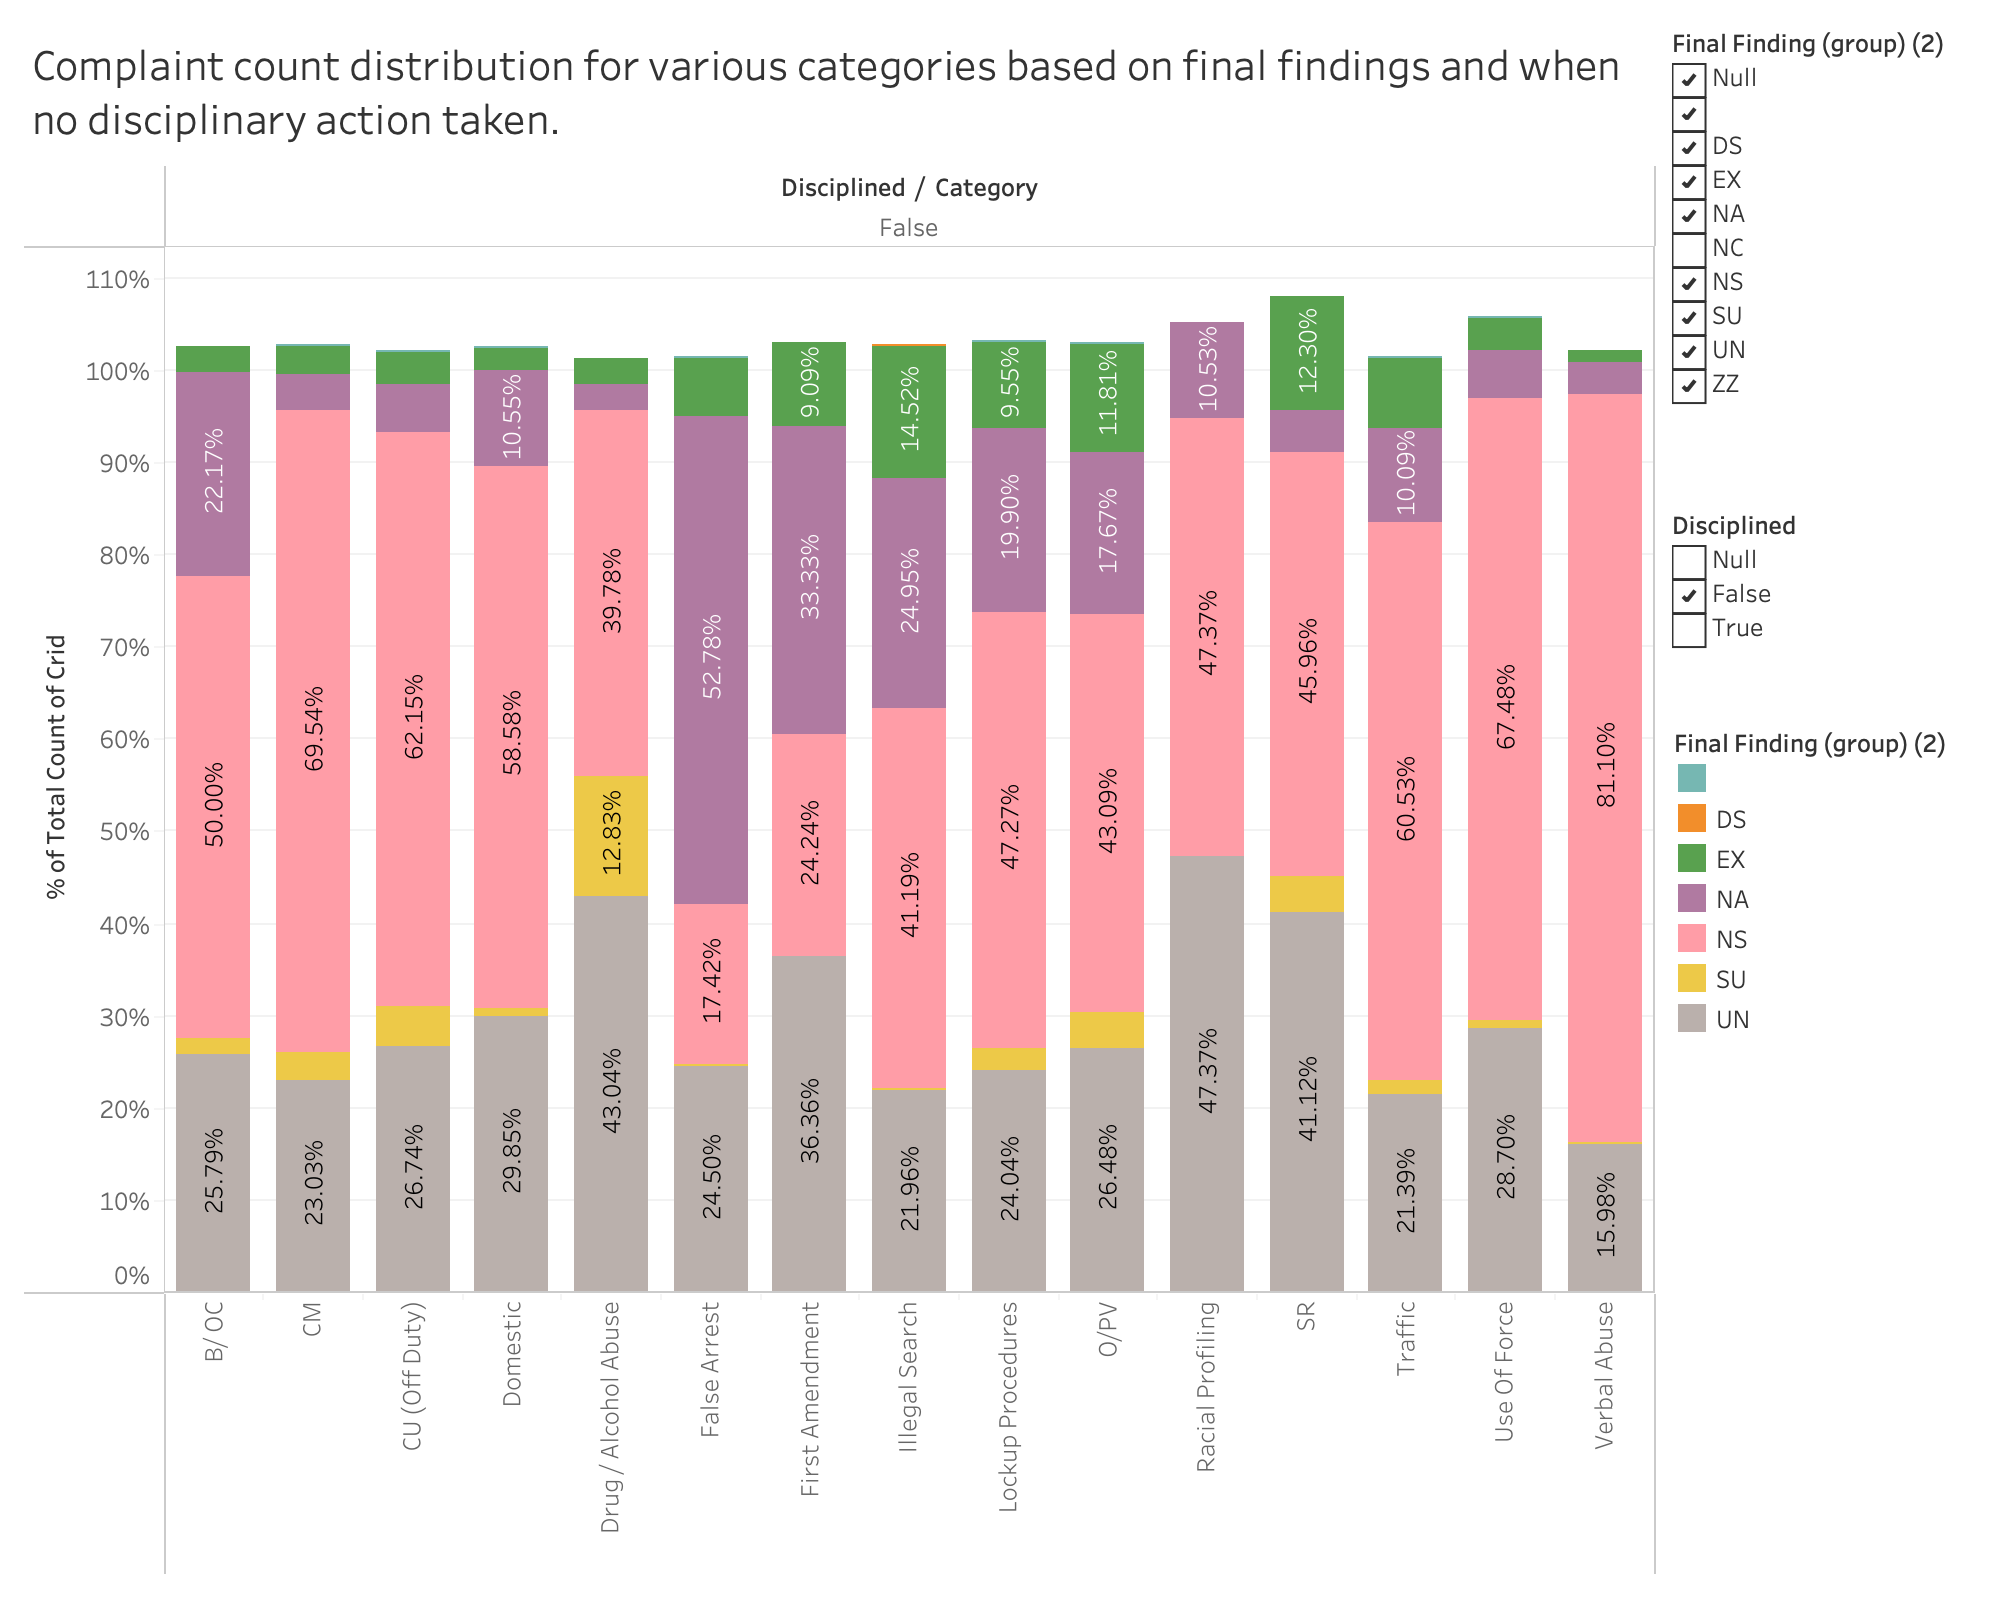

This screenshot's page, from the dashboard's own definition file:
{"tool":"tableau","page":{"name":"Viz 5_1","canvas":[1000,800],"ordinal":4},"visuals":[{"type":"worksheet","title":"Distribution - False Disciplining","mark":"Automatic","cols":["disciplined","category"],"box":[8,8,824,784]},{"type":"filter","title":"Distribution - False Disciplining","param":"[federated.1b0pa4i1ec3ry010a1tgf1q66knt (copy)].[Final Finding (group) 2]","box":[832,8,160,241]},{"type":"filter","title":"Distribution - False Disciplining","param":"[federated.1b0pa4i1ec3ry010a1tgf1q66knt (copy)].[none:disciplined:nk]","box":[832,249,160,108]},{"type":"legend","title":"Distribution - False Disciplining","param":"[federated.1b0pa4i1ec3ry010a1tgf1q66knt (copy)].[Final Finding (group) 2]","box":[832,357,160,186]}]}

Visuals, with their boxes in screenshot pixels (x1, y1, x2, y2), scaled from the page's 1000x800 canvas onto the 2000x1600 screenshot:
"Distribution - False Disciplining" worksheet: rect(16, 16, 1664, 1584)
"Distribution - False Disciplining" filter: rect(1664, 16, 1984, 498)
"Distribution - False Disciplining" filter: rect(1664, 498, 1984, 714)
"Distribution - False Disciplining" legend: rect(1664, 714, 1984, 1086)
